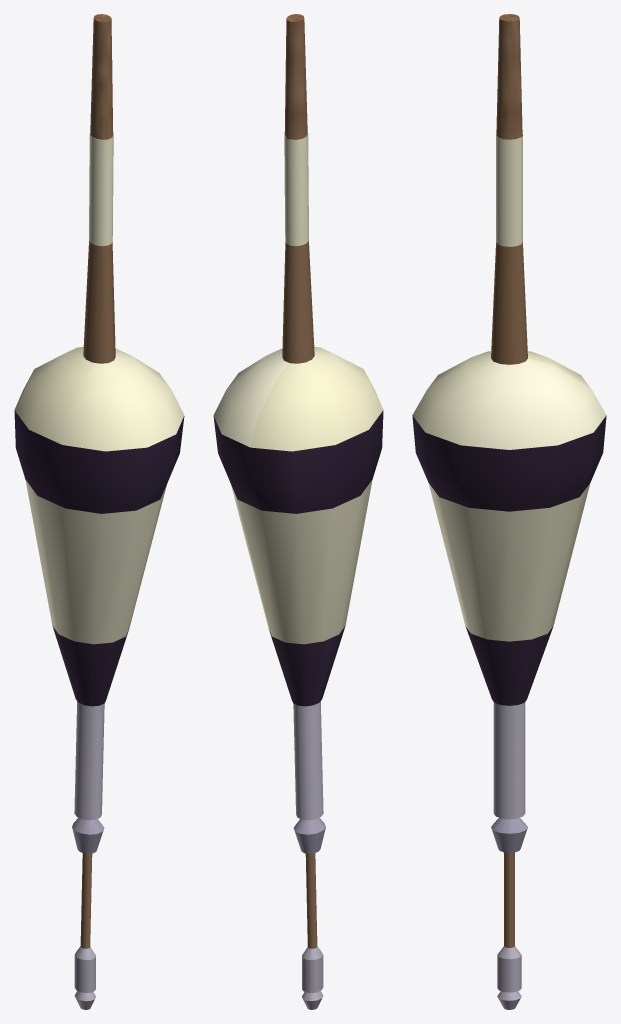
File: Poplavok.fbx
The picture shows the model from 3 angles, left to right: view 1: azimuth 30°, elevation 25°; view 2: azimuth 150°, elevation 25°; view 3: azimuth 270°, elevation 25°; orthographic projection.
Parts seen in each view (by area): view 1: Cylinder; view 2: Cylinder; view 3: Cylinder.
Boxes of the visible parts, box(x1,y1,x2,y2) form: Cylinder: box(14, 14, 184, 1009); Cylinder: box(213, 14, 383, 1009); Cylinder: box(412, 14, 606, 1009).
Bounding box in the file's own units: 21.55 × 144 × 25.36.
